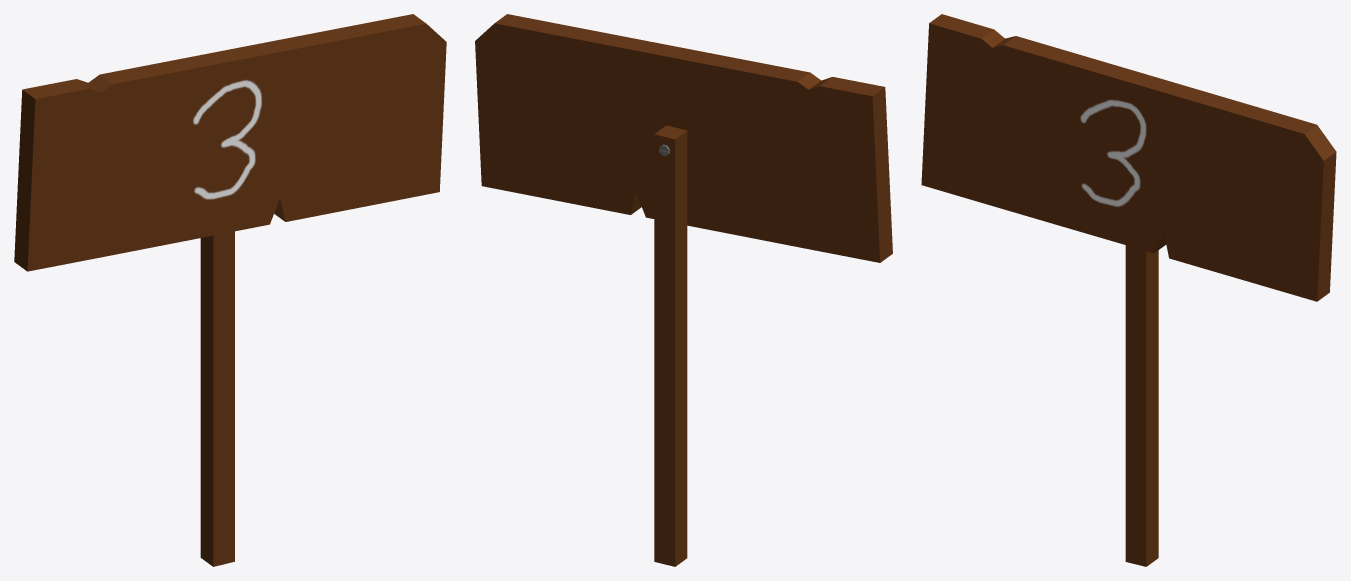
File: sign1_3.glb
3 views of the same model, side by side, from view 1: azimuth 30°, elevation 25°; view 2: azimuth 150°, elevation 25°; view 3: azimuth 330°, elevation 25° (orthographic). The views are drawn at different scales.
Visible parts, largest first — view 1: Sign 1; view 2: Sign 1; view 3: Sign 1.
Boxes of the visible parts, x1=… form: Sign 1: x1=14, y1=14, x2=446, y2=566; Sign 1: x1=475, y1=14, x2=892, y2=566; Sign 1: x1=921, y1=14, x2=1336, y2=566.
Bounding box in the file's own units: 2.03 × 2.43 × 0.228.
Materials: 2 (1 with a texture image).
